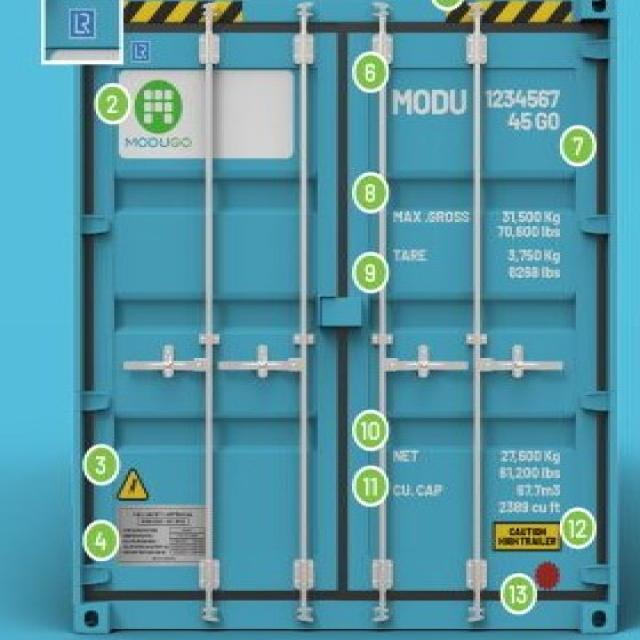ISO: (504, 110, 565, 140)
container_number: (380, 83, 568, 111)
